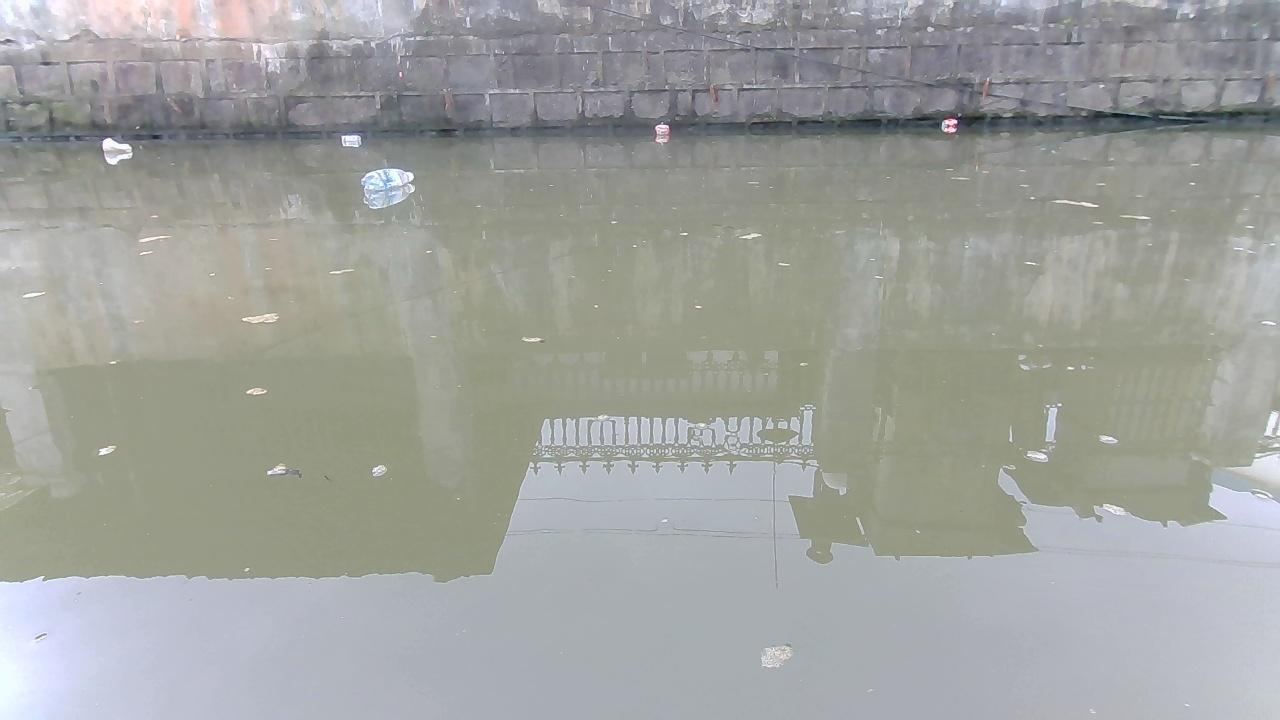bottle: (362, 165, 418, 191), (100, 131, 134, 157), (936, 114, 958, 139), (339, 131, 364, 150), (651, 122, 668, 137)
